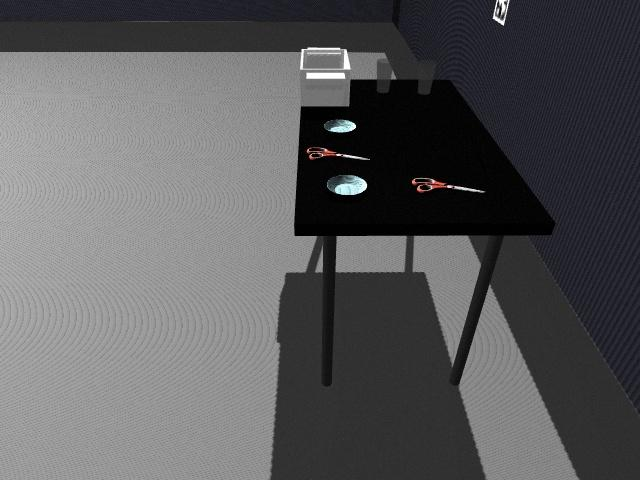cup: (417, 61, 436, 96), (376, 57, 392, 95)
plate: (326, 174, 368, 196), (323, 119, 357, 134)
scissors: (413, 178, 484, 194), (307, 146, 368, 162)
